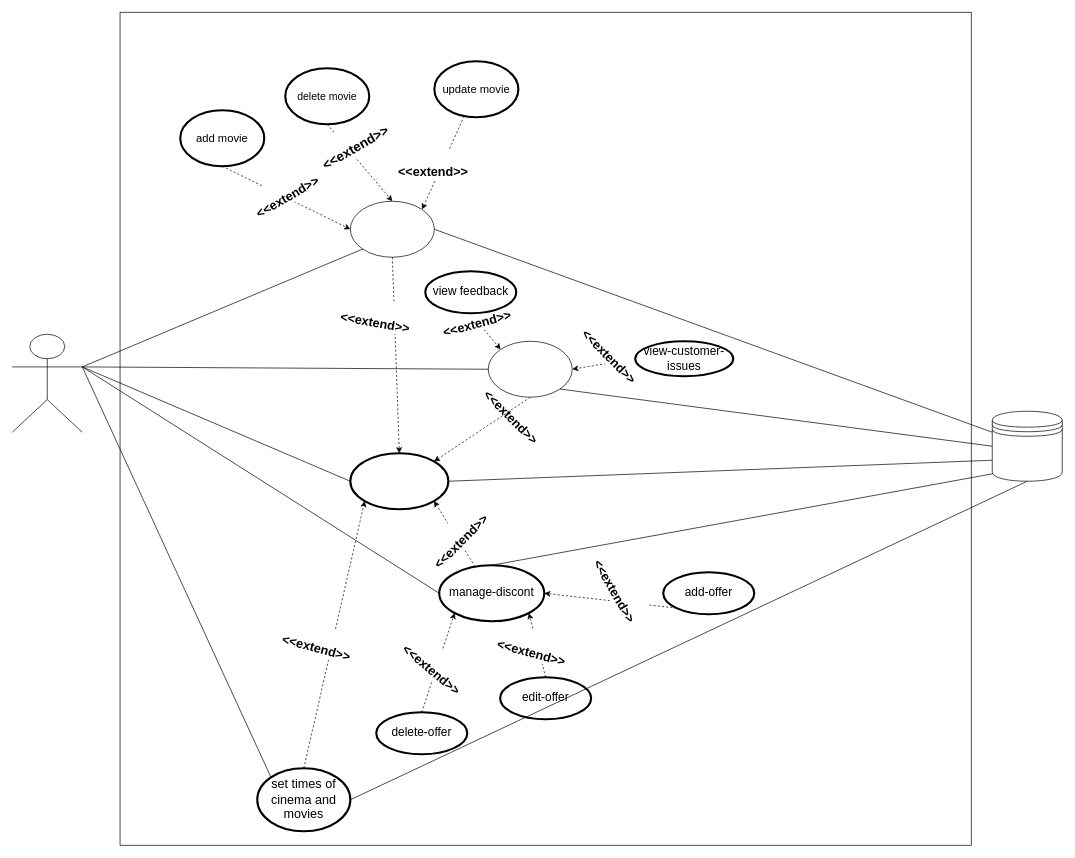
Some shapes in this 1075 by 858 pixel diagram are drawn without their labels. Each missing label, with the box of its shape:
admin: (12, 334, 82, 432)
DataBase: (992, 411, 1062, 481)
login: (349, 452, 449, 510)
manage-movie: (350, 201, 434, 257)
manage-review: (488, 341, 572, 397)
